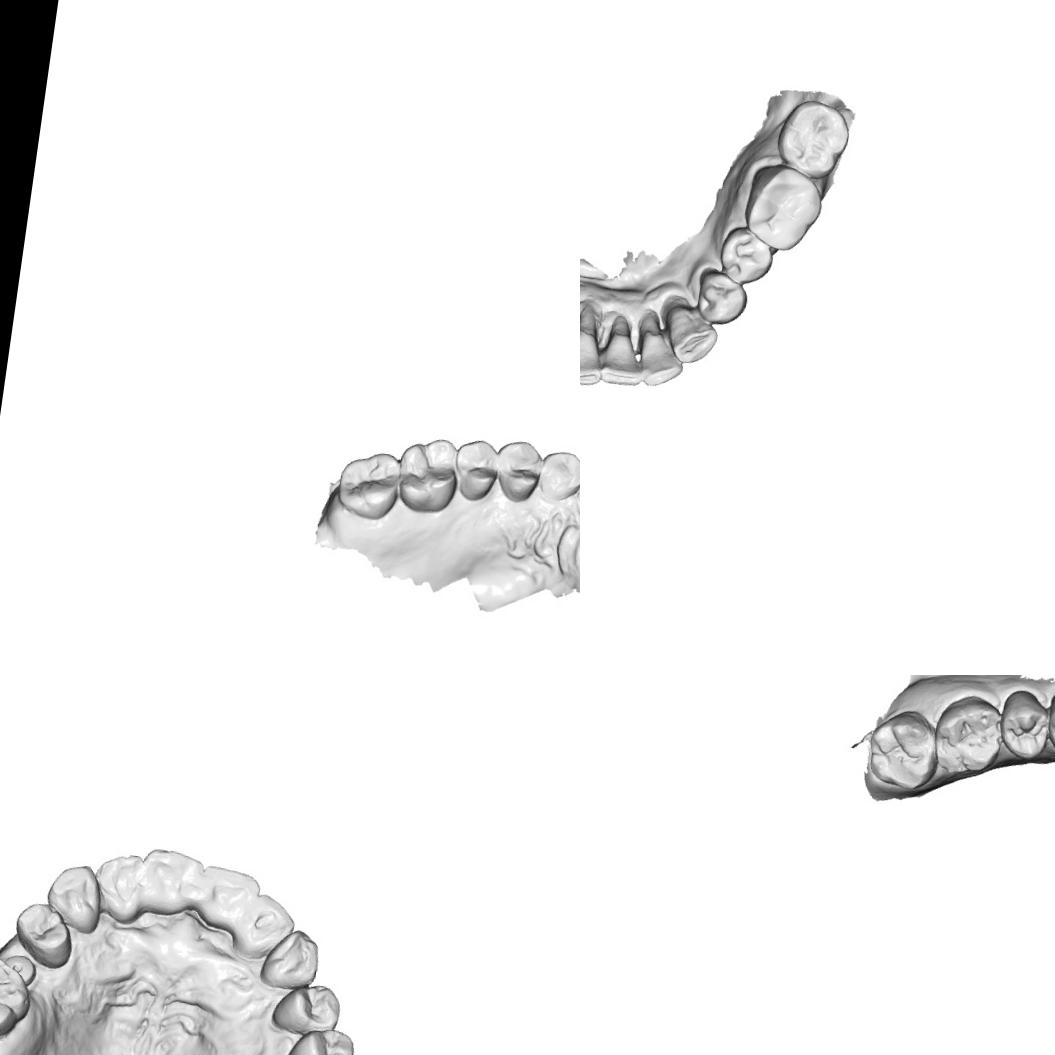canine: (42, 858, 108, 936), (257, 926, 323, 994), (664, 308, 721, 367), (535, 447, 580, 505)
implant: (0, 951, 41, 988)
incisor: (229, 889, 300, 967), (137, 846, 207, 922), (193, 862, 264, 935), (88, 850, 148, 926), (633, 327, 688, 392), (595, 327, 648, 390), (580, 324, 606, 390)
molar: (738, 159, 827, 257), (928, 690, 1009, 784), (864, 704, 945, 796), (772, 95, 856, 180), (393, 433, 463, 516), (334, 446, 404, 524), (0, 945, 38, 1042)
premolar: (9, 898, 80, 973), (268, 978, 344, 1042), (995, 685, 1055, 766), (712, 222, 779, 288), (692, 266, 754, 330), (491, 437, 545, 505), (450, 436, 502, 504), (279, 1022, 357, 1055), (1041, 684, 1055, 765)
